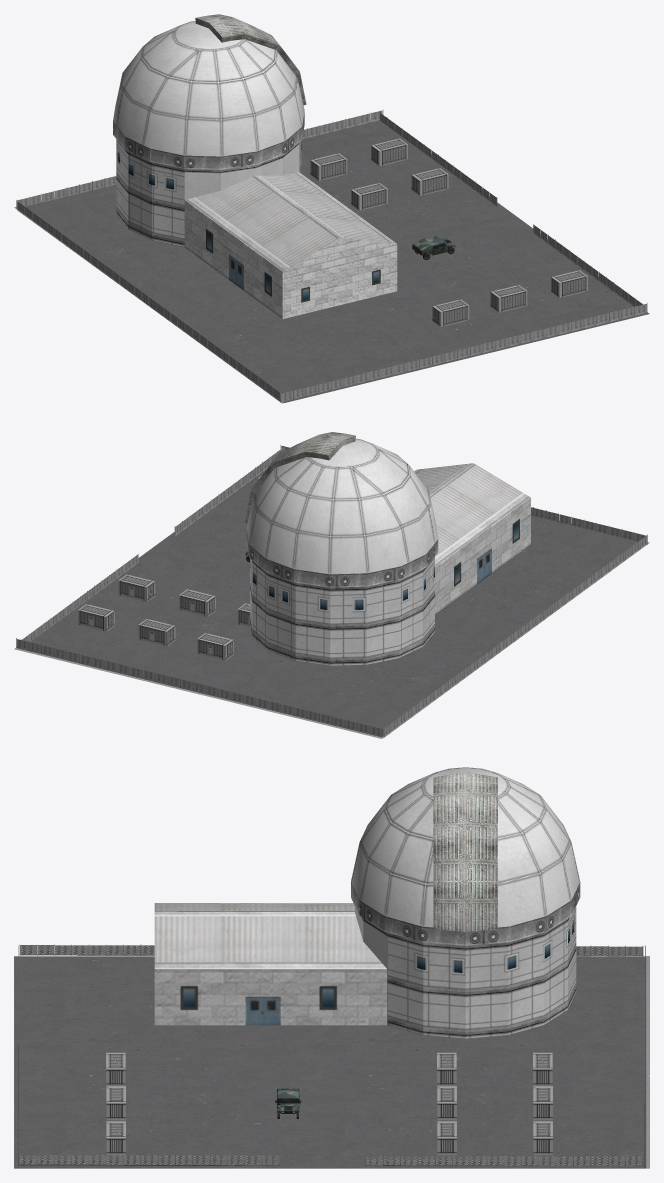
3 views of the same model, one above another, from view 1: azimuth 30°, elevation 25°; view 2: azimuth 150°, elevation 25°; view 3: azimuth 270°, elevation 25° (orthographic). The views are drawn at different scales.
Visible parts, largest first — view 1: Plane097, Sphere001, Cylinder220, Cylinder222, Cylinder223, Cylinder221, container_039, container_033, container_032, container_035, container_036, container_038 (+2 smaller); view 2: Sphere001, Plane097, Cylinder221, Cylinder222, Cylinder223, Cylinder220, container_035, container_039, container_038, container_036, container_040; view 3: Plane097, Sphere001, Cylinder223, Cylinder222, container_032, container_033, container_035, container_036, container_037, container_038, container_039, container_040 (+1 smaller).
Boxes of the visible parts, x1,y1,x2,y2 form: Plane097: [14, 120, 649, 403]; Sphere001: [113, 14, 397, 318]; Cylinder220: [280, 303, 647, 402]; Cylinder222: [17, 200, 280, 401]; Cylinder223: [380, 112, 642, 306]; Cylinder221: [16, 109, 383, 209]; container_039: [310, 153, 347, 180]; container_033: [490, 285, 527, 312]; container_032: [432, 299, 469, 326]; container_035: [411, 168, 448, 195]; container_036: [351, 183, 387, 210]; container_038: [371, 138, 407, 166]; Sphere001: [245, 432, 530, 665]; Plane097: [14, 469, 649, 738]; Cylinder221: [16, 638, 383, 737]; Cylinder222: [384, 534, 647, 737]; Cylinder223: [21, 446, 284, 641]; Cylinder220: [280, 445, 647, 544]; container_035: [118, 574, 155, 601]; container_039: [138, 619, 175, 646]; container_038: [78, 604, 114, 631]; container_036: [179, 589, 215, 616]; container_040: [197, 633, 233, 660]; Plane097: [14, 956, 649, 1168]; Sphere001: [154, 767, 580, 1038]; Cylinder223: [19, 1154, 643, 1165]; Cylinder222: [19, 944, 643, 956]; container_032: [106, 1052, 125, 1086]; container_033: [106, 1086, 125, 1120]; container_035: [437, 1121, 456, 1155]; container_036: [437, 1086, 456, 1120]; container_037: [437, 1052, 456, 1086]; container_038: [533, 1121, 552, 1155]; container_039: [533, 1086, 552, 1120]; container_040: [533, 1052, 552, 1086].
Bounding box in the file's own units: 122 × 67.45 × 154.
